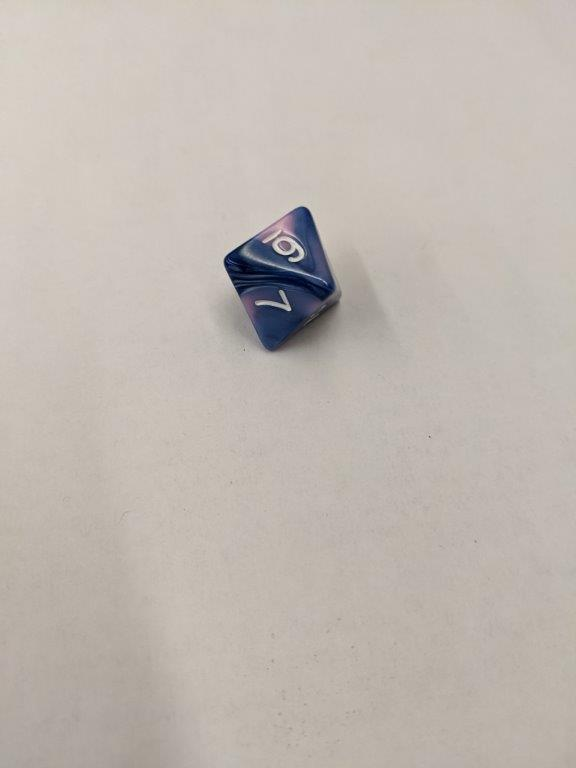d8-6: (219, 204, 343, 353)
